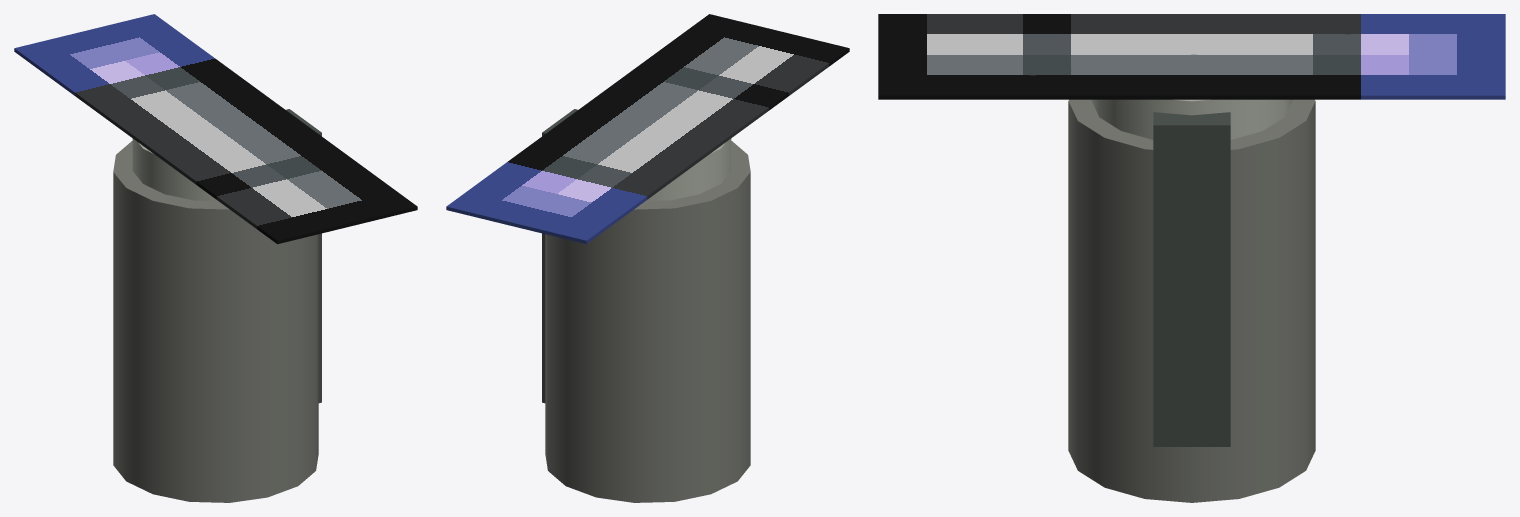
The model's file is CMU3DReduxCMGrenadeSmoke.glb.
3 views of the same model, side by side, from view 1: azimuth 30°, elevation 25°; view 2: azimuth 150°, elevation 25°; view 3: azimuth 270°, elevation 25° (orthographic). The views are drawn at different scales.
Visible parts, largest first — view 1: smoke canister, source upper face, fuse cap, safety lever; view 2: smoke canister, source upper face, fuse cap, safety lever; view 3: smoke canister, source upper face, safety lever, fuse cap.
Part boxes in pixels (<box>): smoke canister: <box>113,141,318,502</box>; source upper face: <box>14,14,417,244</box>; fuse cap: <box>132,138,217,200</box>; safety lever: <box>286,109,321,403</box>; smoke canister: <box>545,141,750,502</box>; source upper face: <box>446,14,849,244</box>; fuse cap: <box>646,138,731,200</box>; safety lever: <box>542,109,577,403</box>; smoke canister: <box>1068,99,1315,502</box>; source upper face: <box>878,14,1505,99</box>; safety lever: <box>1153,112,1230,446</box>; fuse cap: <box>1091,99,1292,139</box>.
Size of the model in its own units: 0.16 by 0.283 by 0.4062.
Materials: 4 (1 with a texture image).
